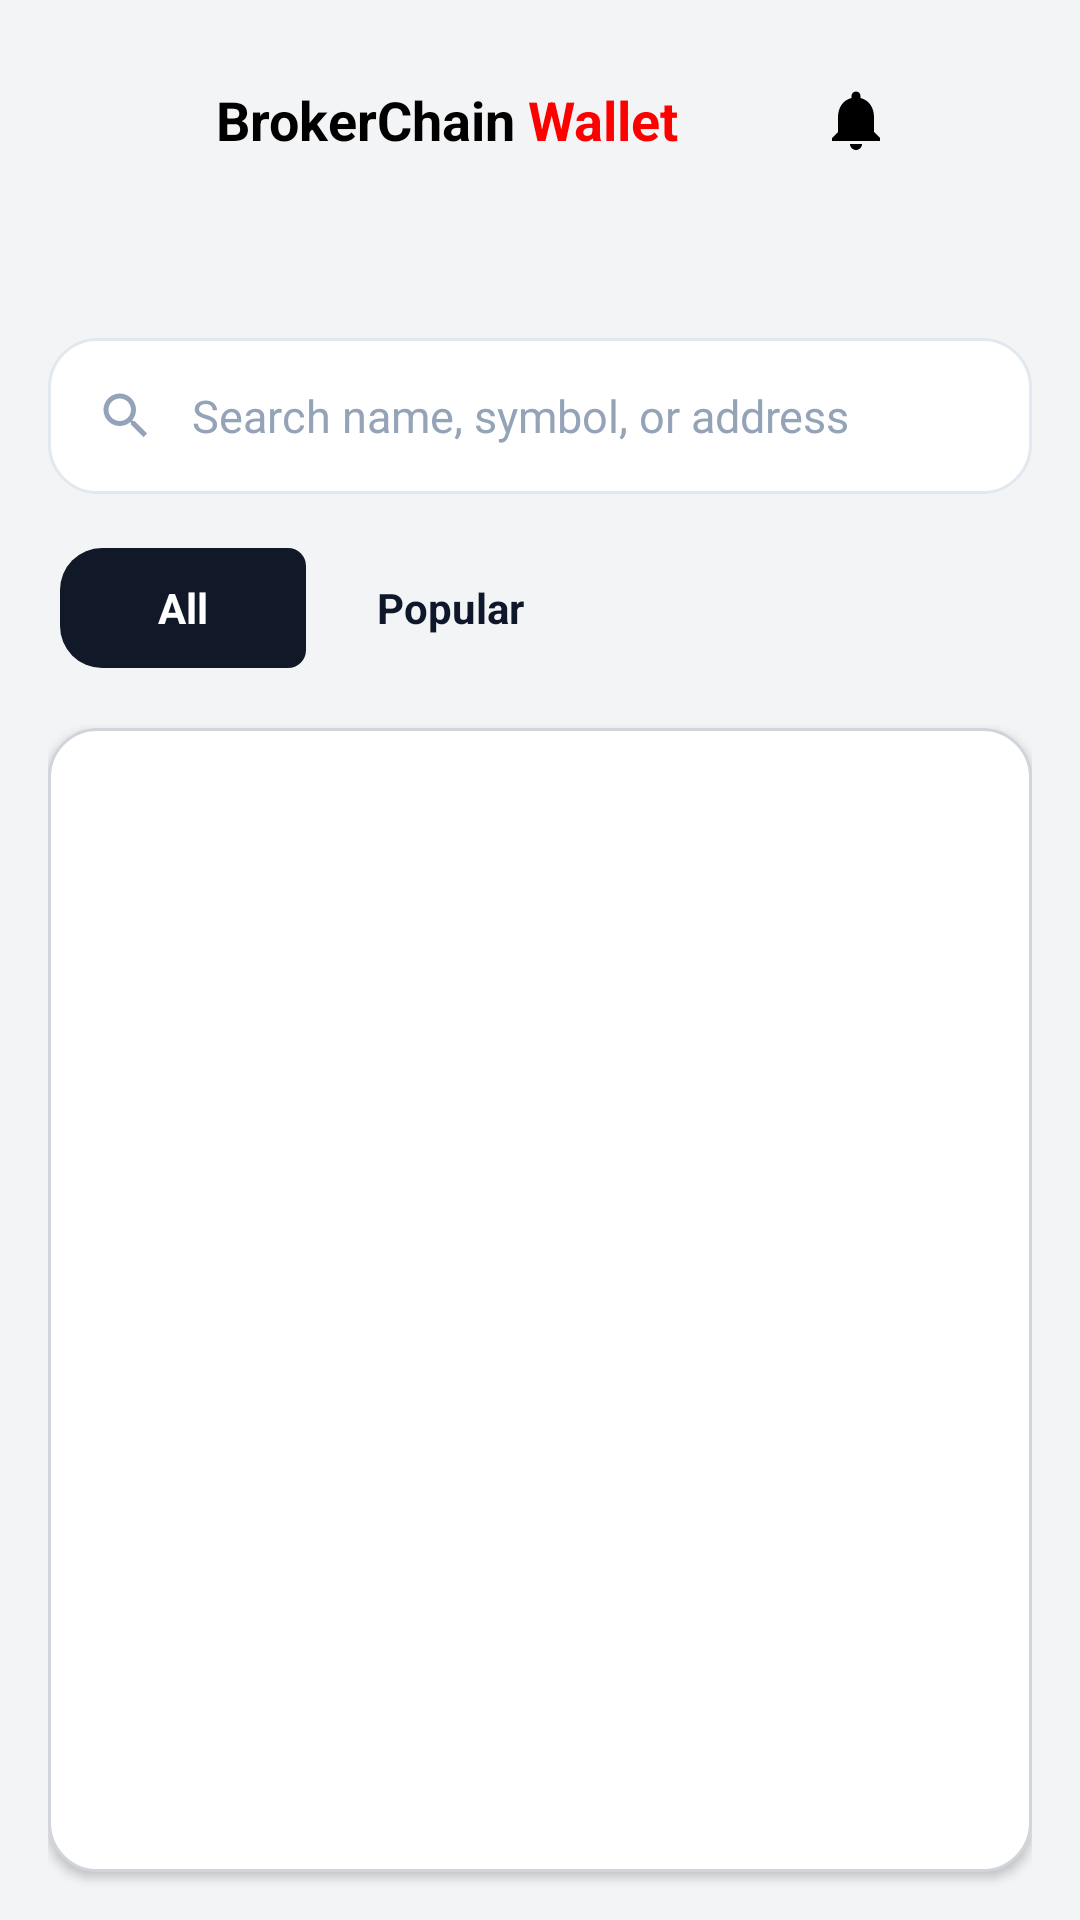

Point at icon controls on the screen. Image size 1080 x 1920, points as (x,y).
Notifications: (856,120)
token search: (125,415)
